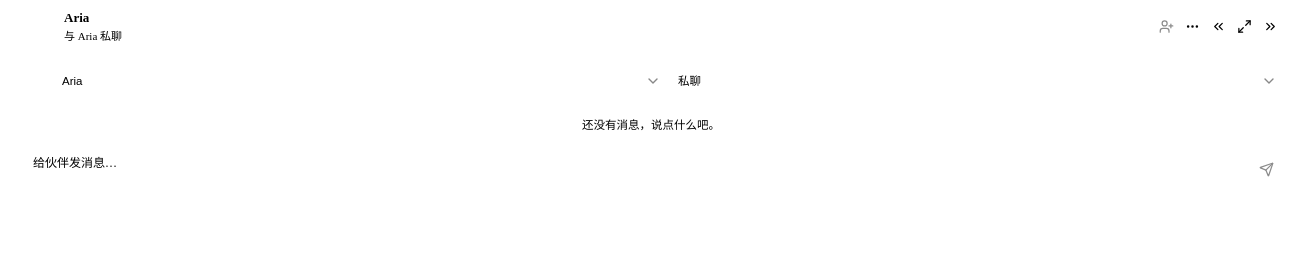
Test case: companion presence › replaces the conversation label with what the companion is doing
The width and height of the screenshot is (1304, 259).
Type "hello" into the text box with class "companion-input" at (635, 169), box [24,150,1246,188]
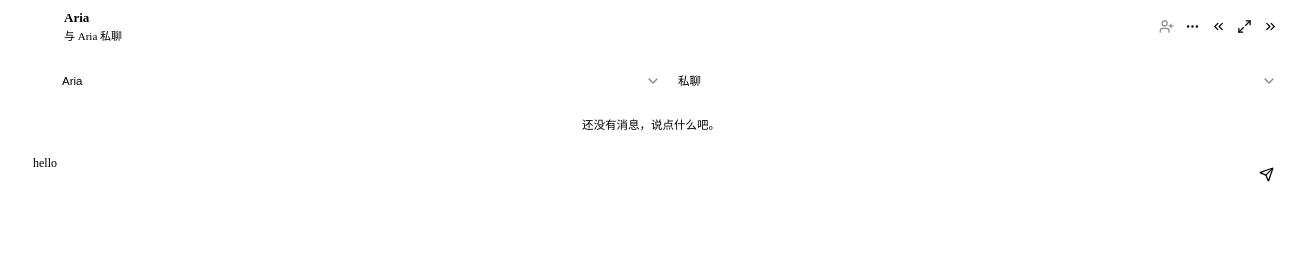
Submit the form with class "companion-composer", box [12,142,1292,208]
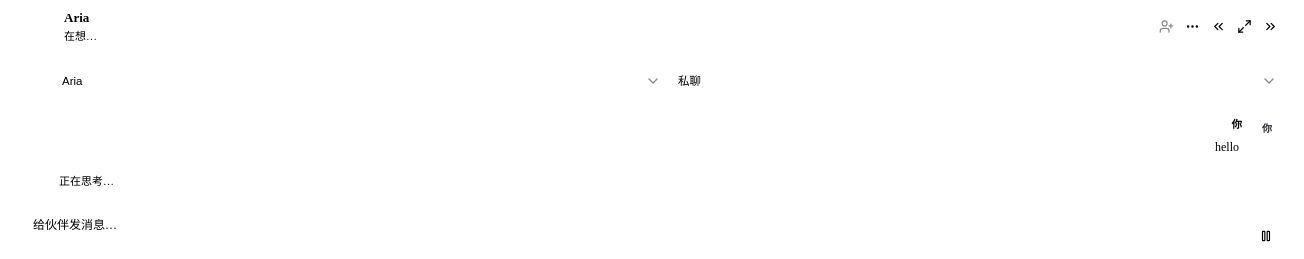
Expected: the text with class "companion-subtitle" reads "在想…", [64,30,97,42]
